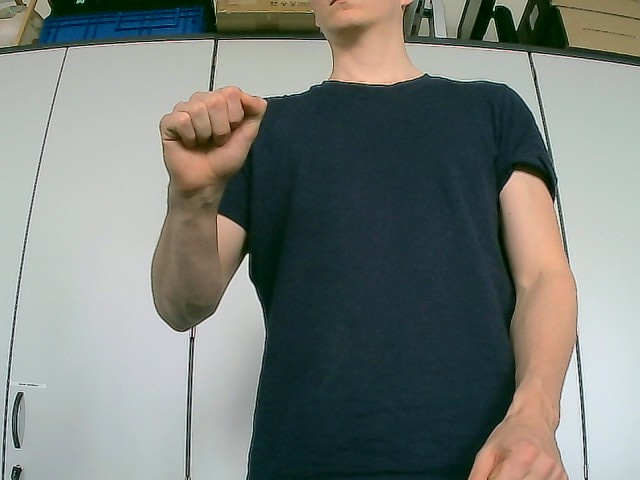no_gesture: (158, 85, 269, 192)
